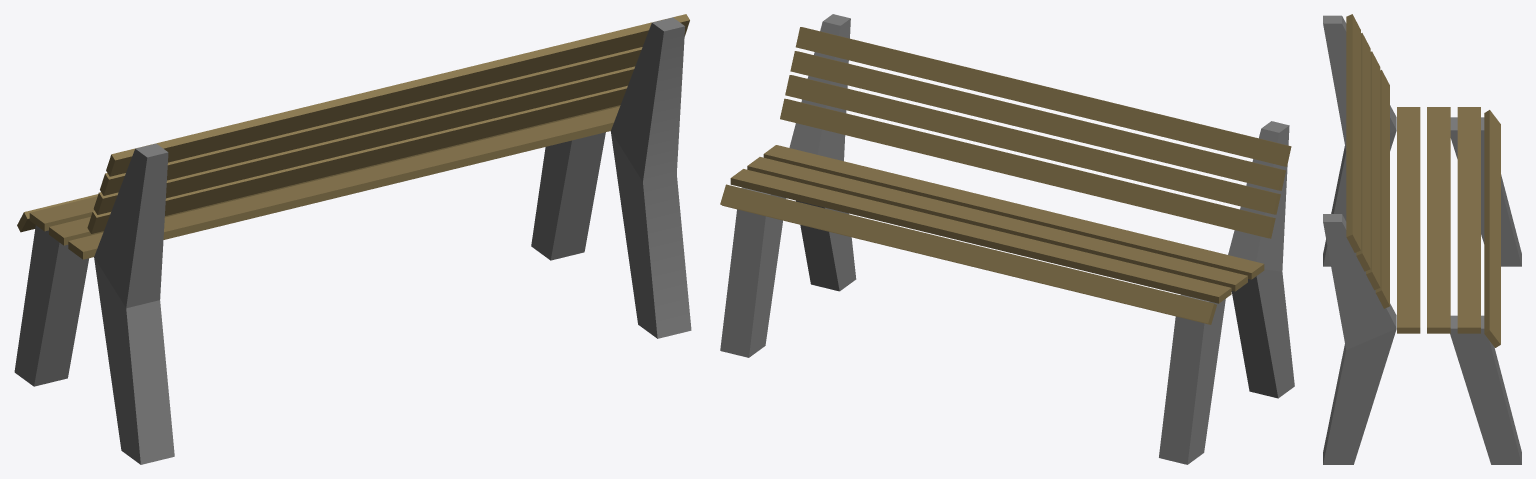
File: Prop_ParkBench_Mod_01.fbx
The picture shows the model from 3 angles, left to right: view 1: azimuth 30°, elevation 25°; view 2: azimuth 150°, elevation 25°; view 3: azimuth 270°, elevation 25°; orthographic projection. The views are drawn at different scales.
Visible parts, largest first — view 1: Bench; view 2: Bench; view 3: Bench.
Boxes of the visible parts, left/top/right/bottom form: Bench: left=14, top=14, right=691, bottom=464; Bench: left=720, top=14, right=1294, bottom=464; Bench: left=1323, top=14, right=1521, bottom=464.
Size of the model in its own units: 6.09 by 3.09 by 2.32.
